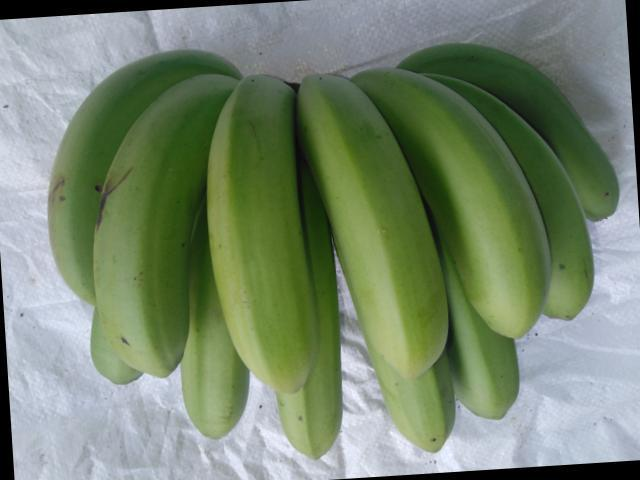freshunripe: (264, 23, 466, 386), (381, 69, 560, 326), (207, 62, 332, 398), (422, 266, 531, 432), (513, 163, 601, 323), (285, 296, 361, 470), (167, 302, 250, 434), (376, 351, 468, 454)
unripe: (81, 69, 223, 389), (38, 36, 117, 305)
